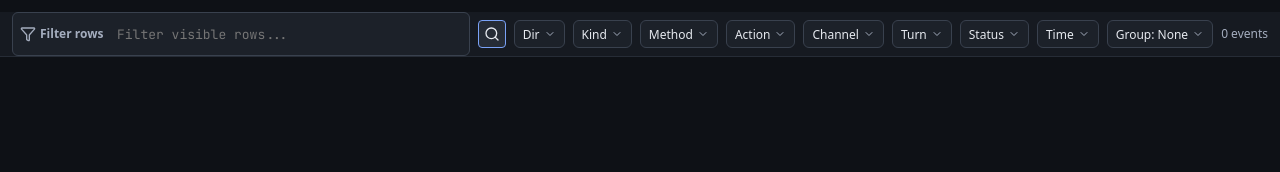
Scenario: FilterBar › shows the focused search result position and navigation controls when query has results
Open the SearchPopover to see search status and navigation controls
Click the button named "Open search": click(492, 34) [478,20,506,48]
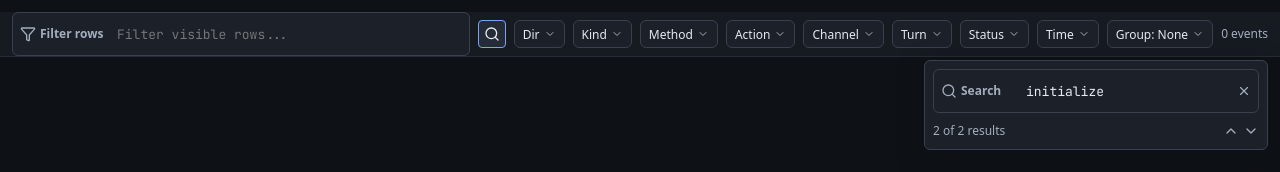
Expected: the element with test id "search-status" reads "2 of 2 results", [933,122,1005,139]
Expected: the button named "Previous result" is shown, [1223,123,1239,139]
Expected: the button named "Next result" is shown, [1243,123,1259,139]
